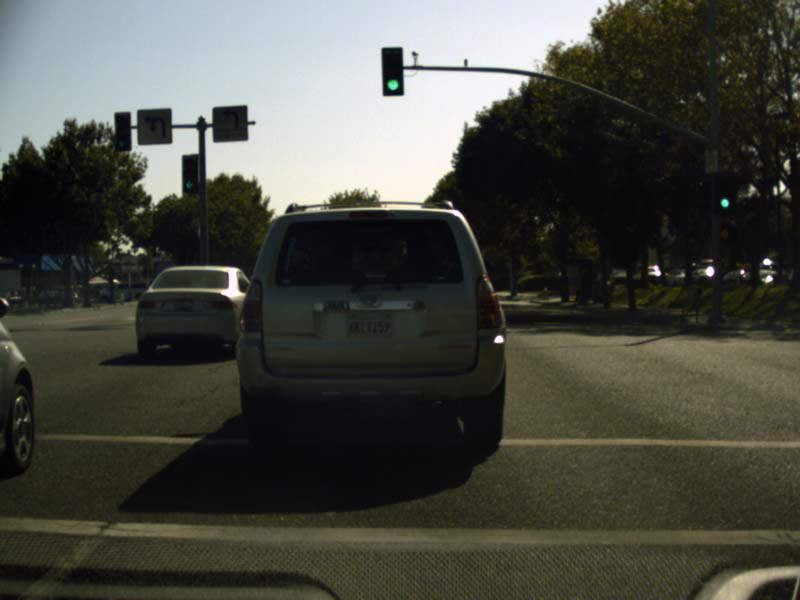Green: (381, 46, 402, 96), (713, 173, 731, 213), (114, 112, 130, 150), (182, 154, 197, 193)
